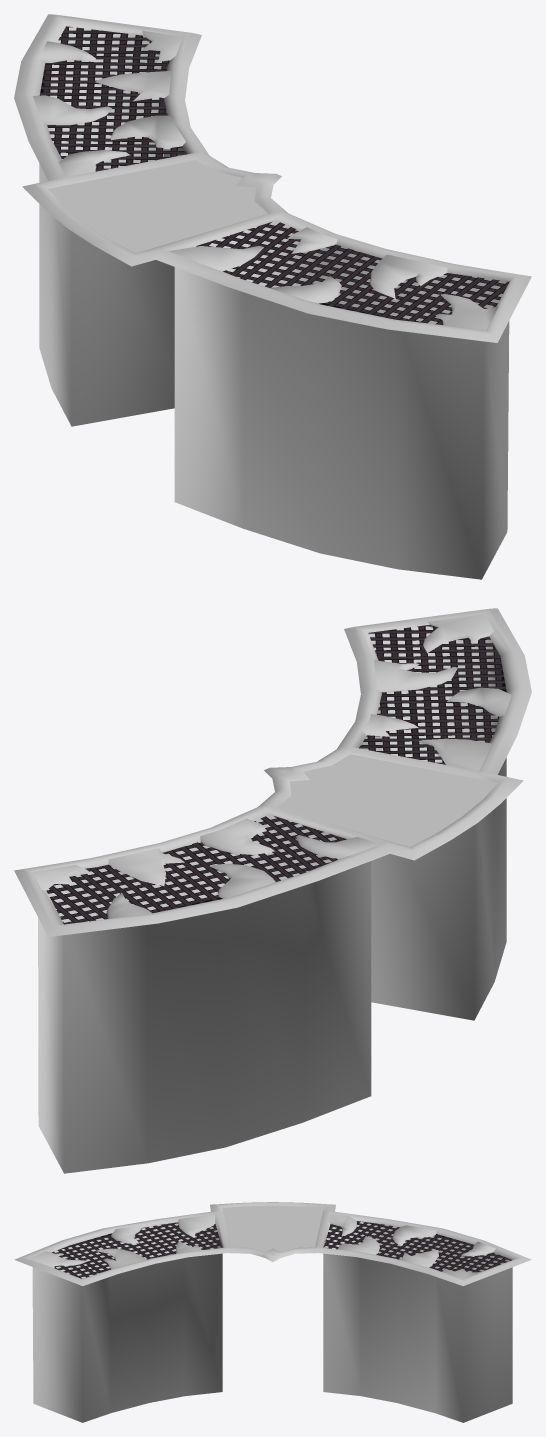
File: SV_AFT_jjc0_tieyi_0.FBX
3 renders of one model, top to bottom at view 1: azimuth 30°, elevation 25°; view 2: azimuth 150°, elevation 25°; view 3: azimuth 270°, elevation 25°, orthographic. The views are drawn at different scales.
Visible parts, largest first — view 1: SV_AFT_jjc0_tieyi_0, SV_AFT_jjc0_tieyi_1; view 2: SV_AFT_jjc0_tieyi_0, SV_AFT_jjc0_tieyi_1; view 3: SV_AFT_jjc0_tieyi_0, SV_AFT_jjc0_tieyi_1.
Boxes of the visible parts, box(x1,y1,x2,y2) form: SV_AFT_jjc0_tieyi_0: box(14, 14, 531, 579); SV_AFT_jjc0_tieyi_1: box(39, 26, 509, 324); SV_AFT_jjc0_tieyi_0: box(14, 608, 531, 1173); SV_AFT_jjc0_tieyi_1: box(46, 625, 506, 924); SV_AFT_jjc0_tieyi_0: box(14, 1202, 531, 1422); SV_AFT_jjc0_tieyi_1: box(52, 1221, 511, 1278).
Bounding box in the file's own units: 6.71 × 5.43 × 17.46.
